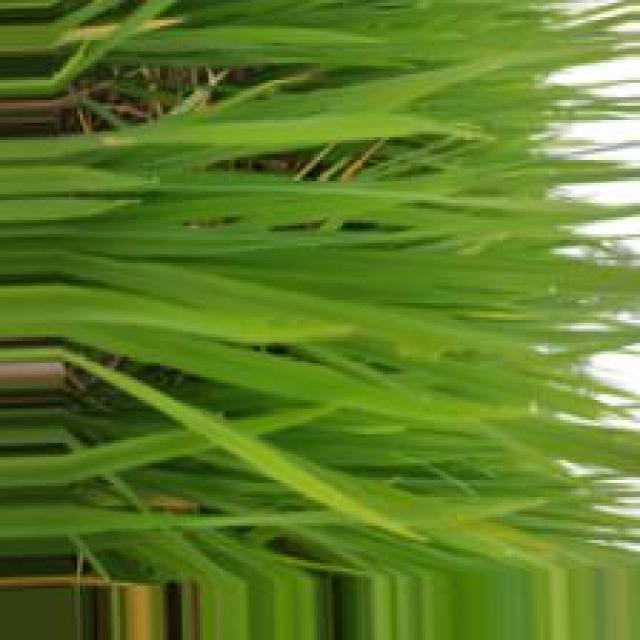HealthyLeaf: (144, 332, 308, 395), (332, 254, 464, 286), (125, 228, 202, 255)
